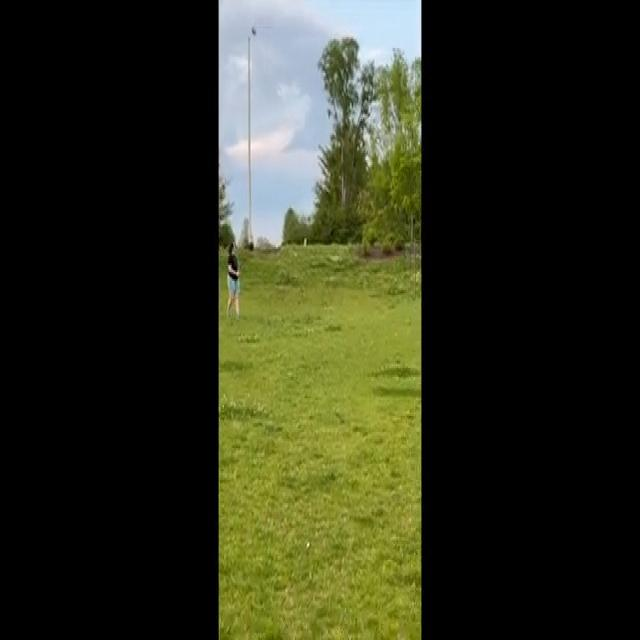drone: (285, 203, 295, 216)
